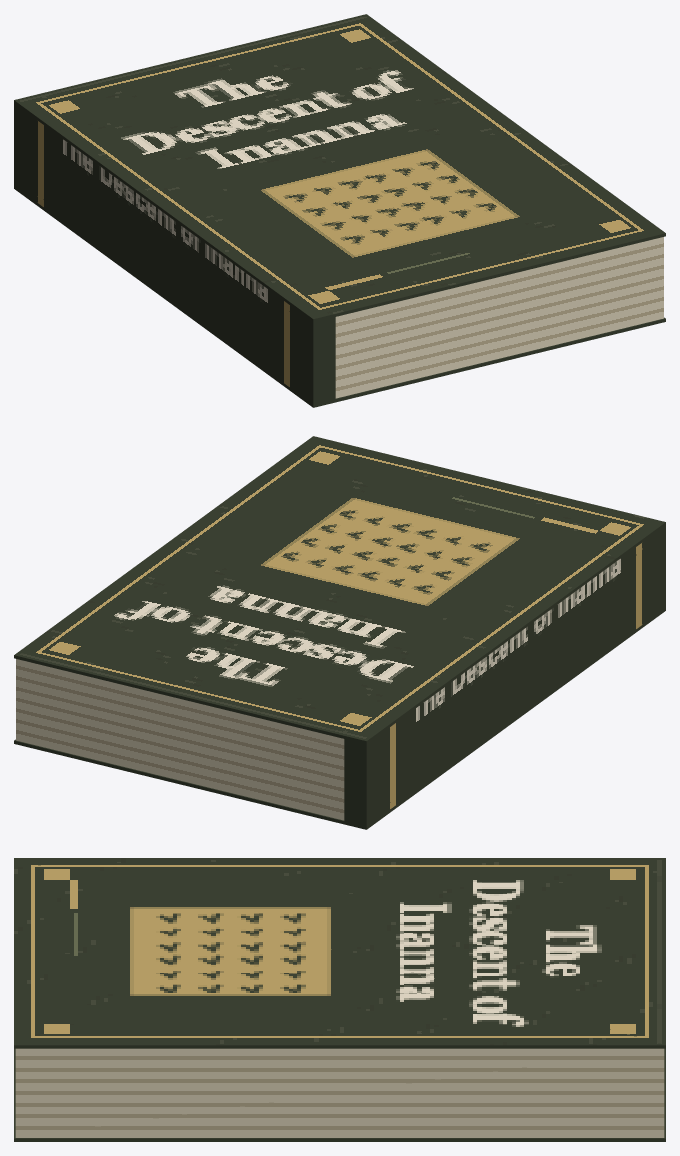
The model's file is holybook_sumeria1.glb.
The picture shows the model from 3 angles, top to bottom: view 1: azimuth 30°, elevation 25°; view 2: azimuth 150°, elevation 25°; view 3: azimuth 270°, elevation 25°; orthographic projection. The views are drawn at different scales.
Visible parts, largest first — view 1: block_front cover, block_page block, block_spine, block_back cover; view 2: block_front cover, block_page block, block_spine, block_back cover; view 3: block_front cover, block_page block, block_back cover.
Part boxes in pixels (box(x1,y1,x2,y2)): block_front cover: box(14, 14, 665, 322); block_page block: box(335, 237, 663, 398); block_spine: box(14, 103, 335, 404); block_back cover: box(14, 186, 665, 407); block_front cover: box(14, 436, 665, 744); block_page block: box(16, 659, 344, 820); block_spine: box(344, 525, 665, 826); block_back cover: box(14, 608, 665, 829); block_front cover: box(14, 858, 665, 1048); block_page block: box(15, 1048, 664, 1137); block_back cover: box(14, 1048, 665, 1141).
Bounding box in the file's own units: 0.1414 × 0.034 × 0.208.
1 material, 1 textured.
